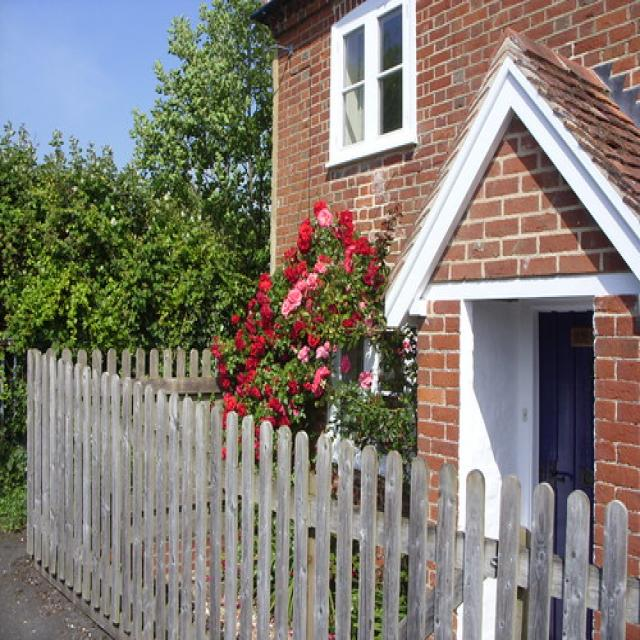Normal_building: (240, 1, 640, 640)
